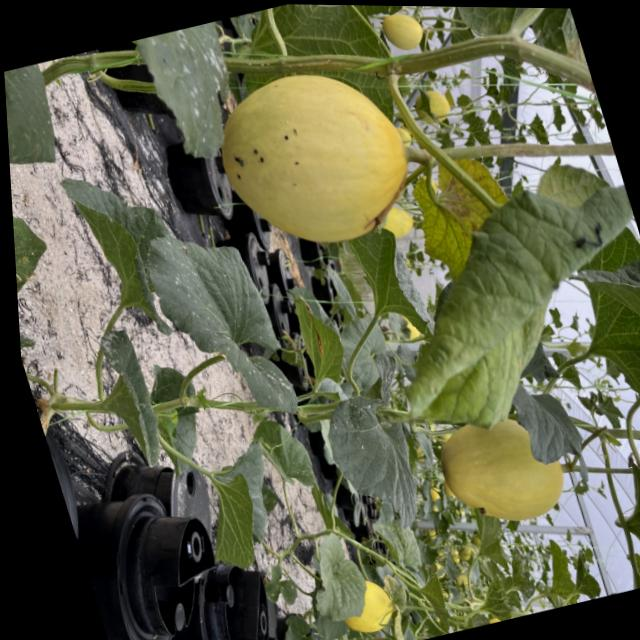CMV: (569, 231, 640, 400)
SLCV: (493, 534, 546, 611)
alternaria leaf blight: (404, 148, 526, 282), (278, 270, 351, 383), (537, 533, 585, 608)
downy mildew: (11, 187, 73, 319)
healthy: (184, 433, 297, 576), (343, 216, 436, 347), (505, 371, 588, 472), (4, 62, 69, 183), (605, 451, 640, 587)
powdery mildew: (122, 200, 298, 439), (305, 354, 439, 534), (69, 164, 184, 318), (84, 325, 179, 470), (12, 196, 71, 317)
